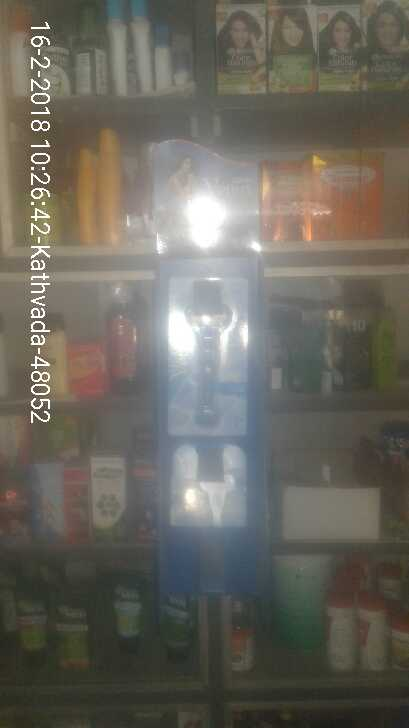reject: (291, 325, 371, 395)
